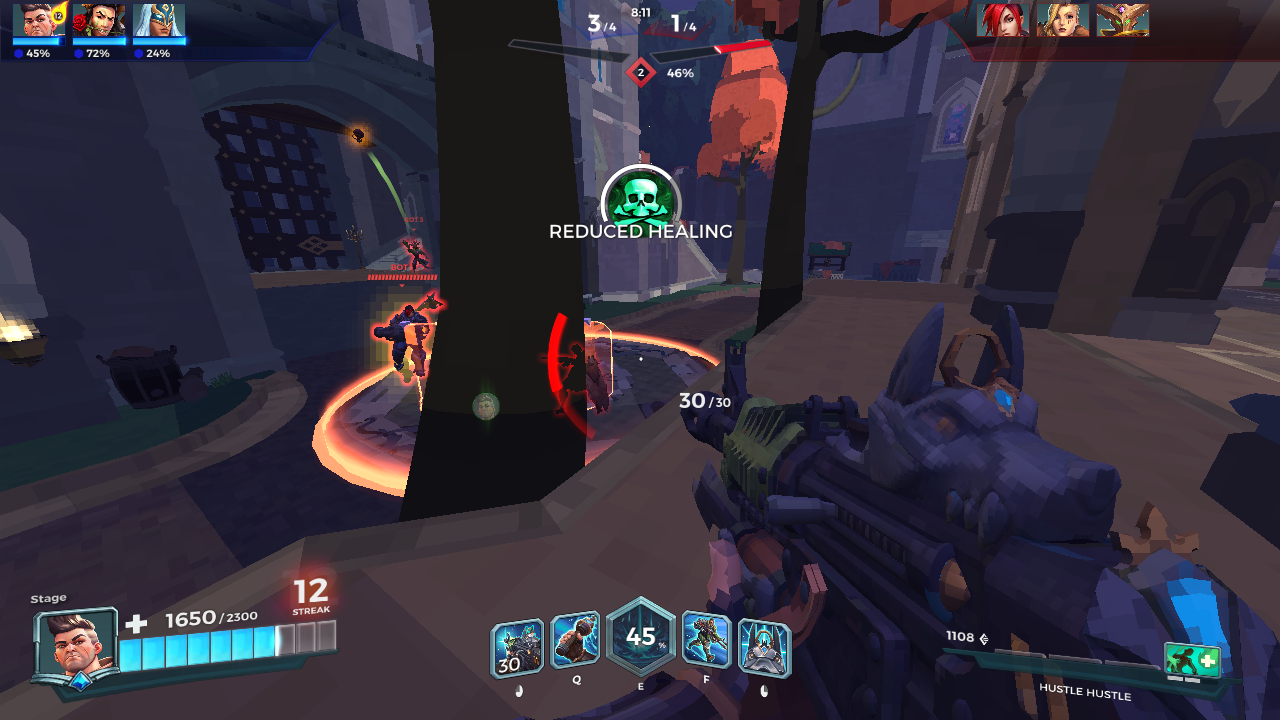model: (553, 338, 610, 421), (377, 298, 429, 383), (406, 234, 427, 270)
